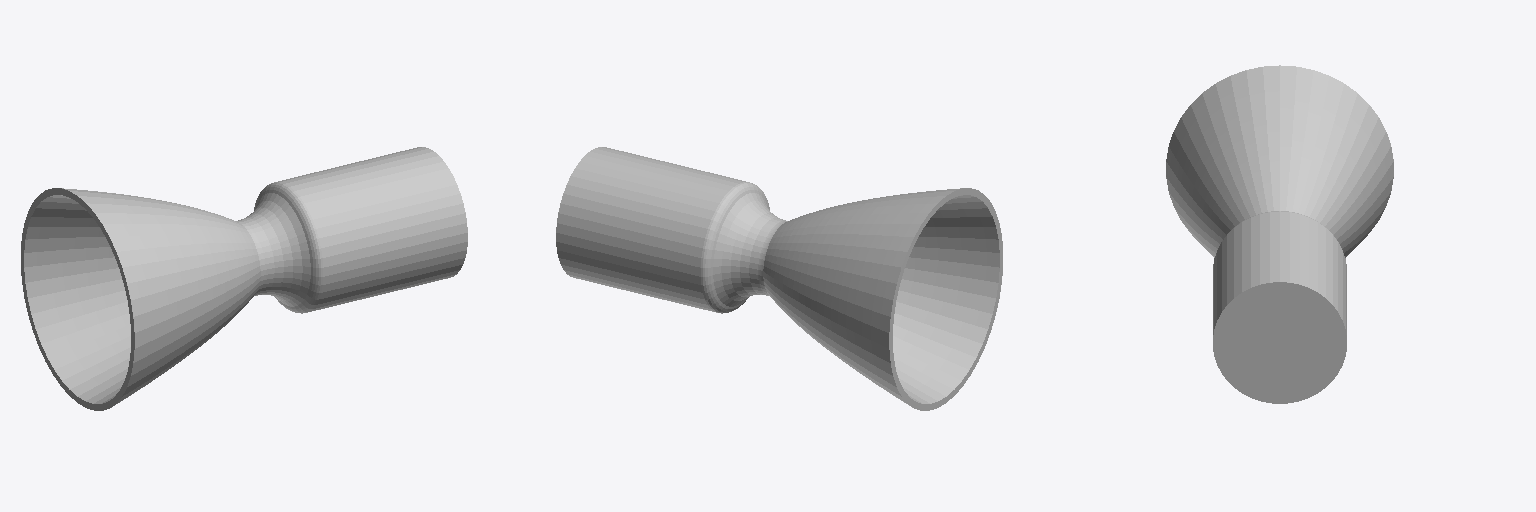
File: Engine_3__Rocket.obj
The picture shows the model from 3 angles: view 1: azimuth 30°, elevation 25°; view 2: azimuth 150°, elevation 25°; view 3: azimuth 270°, elevation 25°; orthographic projection.
Parts seen in each view (by area): view 1: g_Mat_Nozzle; view 2: g_Mat_Nozzle; view 3: g_Mat_Nozzle.
Boxes of the visible parts, x1,y1,x2,y2 form: g_Mat_Nozzle: [21, 147, 467, 410]; g_Mat_Nozzle: [556, 147, 1002, 410]; g_Mat_Nozzle: [1166, 65, 1393, 403].
Bounding box in the file's own units: 0.5612 × 0.3113 × 0.3104.